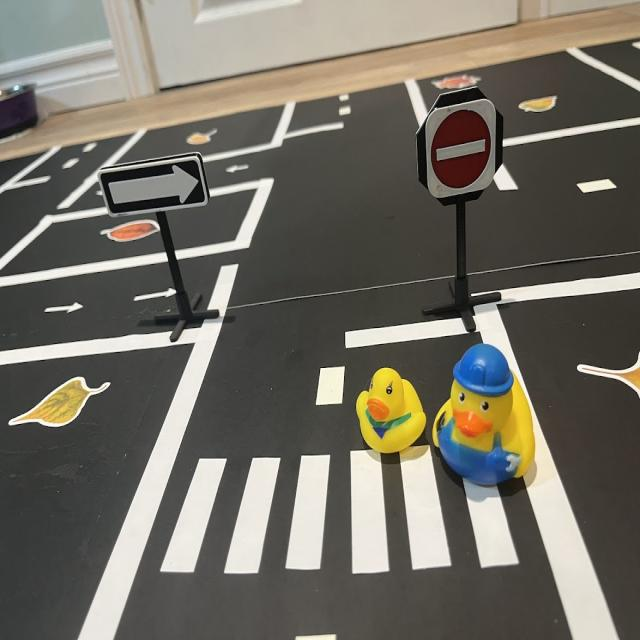duck_regular: (355, 370, 428, 457)
duck_specialty: (434, 344, 539, 489)
road_crosswalk: (151, 441, 526, 578)
road_oneway: (130, 283, 185, 306), (40, 300, 85, 318), (224, 157, 256, 179)
sign_noentry: (428, 97, 497, 202)
sign_oneway_right: (99, 150, 212, 216)
